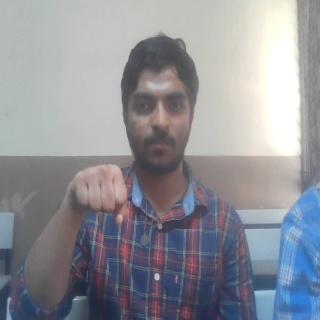Face: (124, 34, 198, 168)
Yes: (67, 163, 130, 226)
